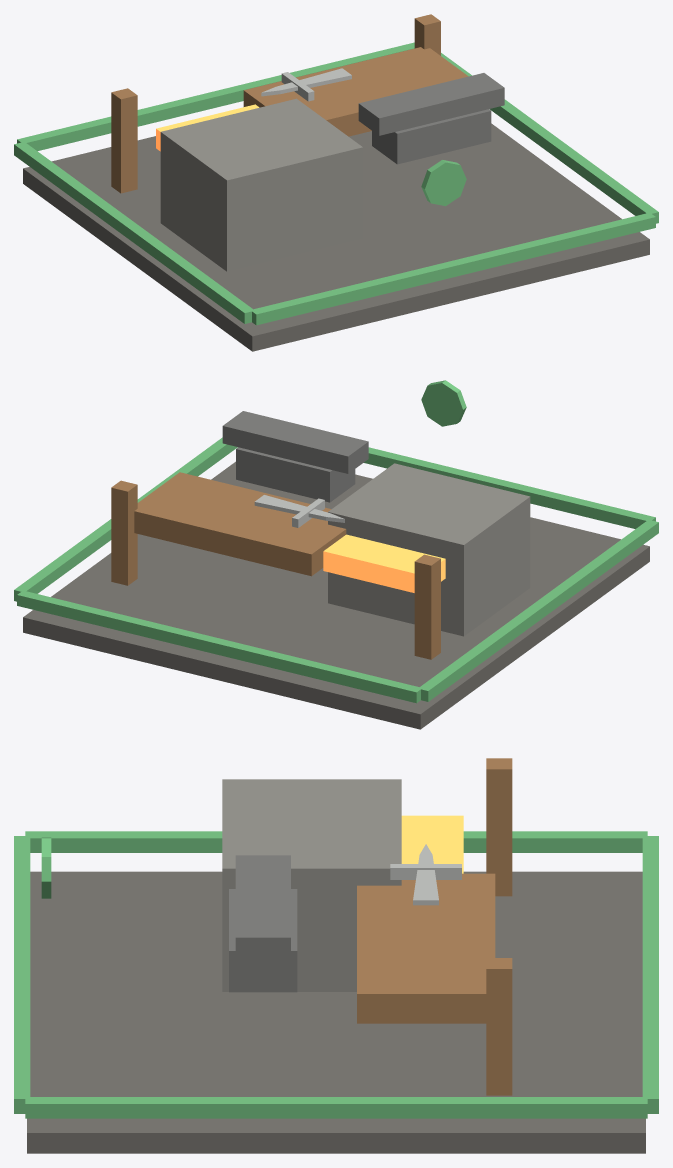
Rendered from t3_weapon_smith.glb.
3 views of the same model, one above another, from view 1: azimuth 30°, elevation 25°; view 2: azimuth 150°, elevation 25°; view 3: azimuth 270°, elevation 25° (orthographic). The views are drawn at different scales.
Visible parts, largest first — view 1: FootprintBase, ForgeBody, WorkTable, TierFrontTrim, AnvilTop, TierLeftTrim, TierBackTrim, AnvilBody, TierRightTrim, RackPostL, TierEmblem, RackPostR (+2 smaller); view 2: FootprintBase, ForgeBody, WorkTable, TierBackTrim, AnvilTop, TierLeftTrim, TierFrontTrim, ForgeGlow, AnvilBody, TierRightTrim, RackPostL, RackPostR (+2 smaller); view 3: FootprintBase, ForgeBody, WorkTable, TierRightTrim, TierLeftTrim, AnvilTop, TierBackTrim, TierFrontTrim, RackPostR, RackPostL, AnvilBody, ForgeGlow (+3 smaller).
Part boxes in pixels (x1=…): FootprintBase: x1=23, y1=123, x2=649, y2=351; ForgeBody: x1=160, y1=98, x2=362, y2=271; WorkTable: x1=243, y1=47, x2=468, y2=136; TierFrontTrim: x1=250, y1=213, x2=655, y2=325; AnvilTop: x1=358, y1=73, x2=504, y2=135; TierLeftTrim: x1=14, y1=142, x2=252, y2=323; TierBackTrim: x1=17, y1=42, x2=414, y2=151; AnvilBody: x1=372, y1=109, x2=491, y2=164; TierRightTrim: x1=441, y1=53, x2=658, y2=223; RackPostL: x1=111, y1=88, x2=137, y2=193; TierEmblem: x1=421, y1=160, x2=466, y2=206; RackPostR: x1=414, y1=14, x2=440, y2=55; FootprintBase: x1=23, y1=461, x2=649, y2=729; ForgeBody: x1=328, y1=463, x2=530, y2=636; WorkTable: x1=134, y1=472, x2=346, y2=576; TierBackTrim: x1=17, y1=591, x2=421, y2=703; AnvilTop: x1=222, y1=411, x2=368, y2=473; TierLeftTrim: x1=418, y1=520, x2=658, y2=701; TierFrontTrim: x1=364, y1=447, x2=655, y2=528; ForgeGlow: x1=323, y1=534, x2=445, y2=592; AnvilBody: x1=236, y1=447, x2=355, y2=502; TierRightTrim: x1=14, y1=437, x2=237, y2=601; RackPostL: x1=414, y1=554, x2=440, y2=659; RackPostR: x1=111, y1=480, x2=137, y2=585; FootprintBase: x1=27, y1=871, x2=645, y2=1153; ForgeBody: x1=222, y1=779, x2=401, y2=991; WorkTable: x1=357, y1=873, x2=495, y2=1023; TierRightTrim: x1=25, y1=1097, x2=647, y2=1118; TierLeftTrim: x1=25, y1=831, x2=647, y2=852; AnvilTop: x1=235, y1=855, x2=290, y2=961; TierBackTrim: x1=642, y1=836, x2=658, y2=1113; TierFrontTrim: x1=14, y1=836, x2=30, y2=1113; RackPostR: x1=486, y1=958, x2=512, y2=1095; RackPostL: x1=486, y1=758, x2=512, y2=896; AnvilBody: x1=229, y1=889, x2=297, y2=992; ForgeGlow: x1=401, y1=815, x2=463, y2=873.
Bounding box in the file's own units: 3.96 × 1.25 × 3.96.
